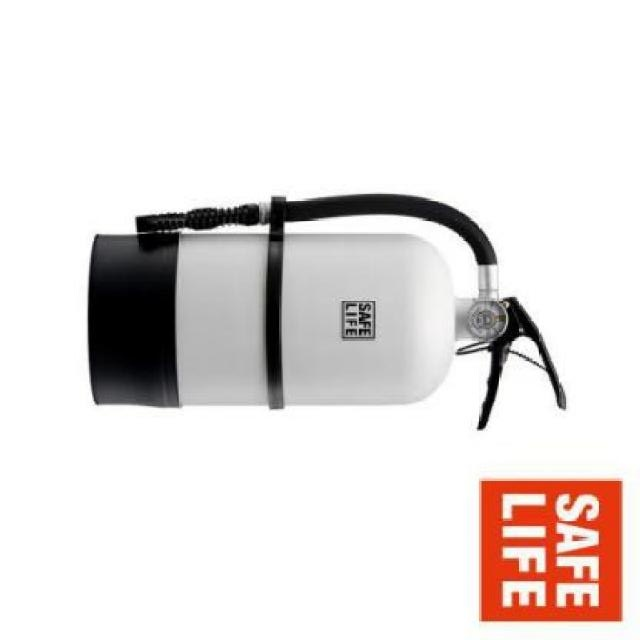fire extinguisher: (87, 192, 567, 430)
